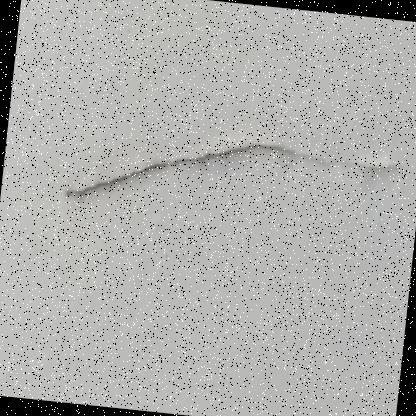Crack: (43, 85, 415, 311)
